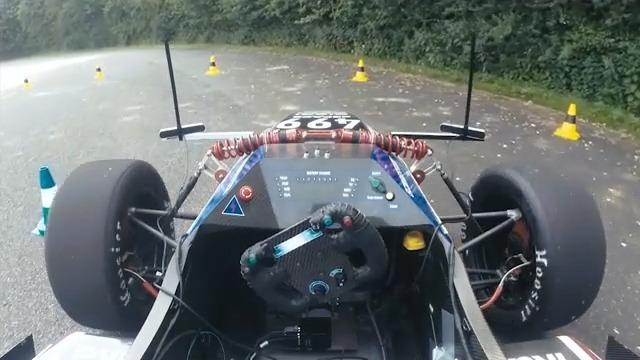blue_cone: (32, 165, 80, 243)
yellow_cone: (554, 104, 580, 140), (351, 59, 370, 82), (205, 55, 222, 76), (93, 64, 106, 81)
